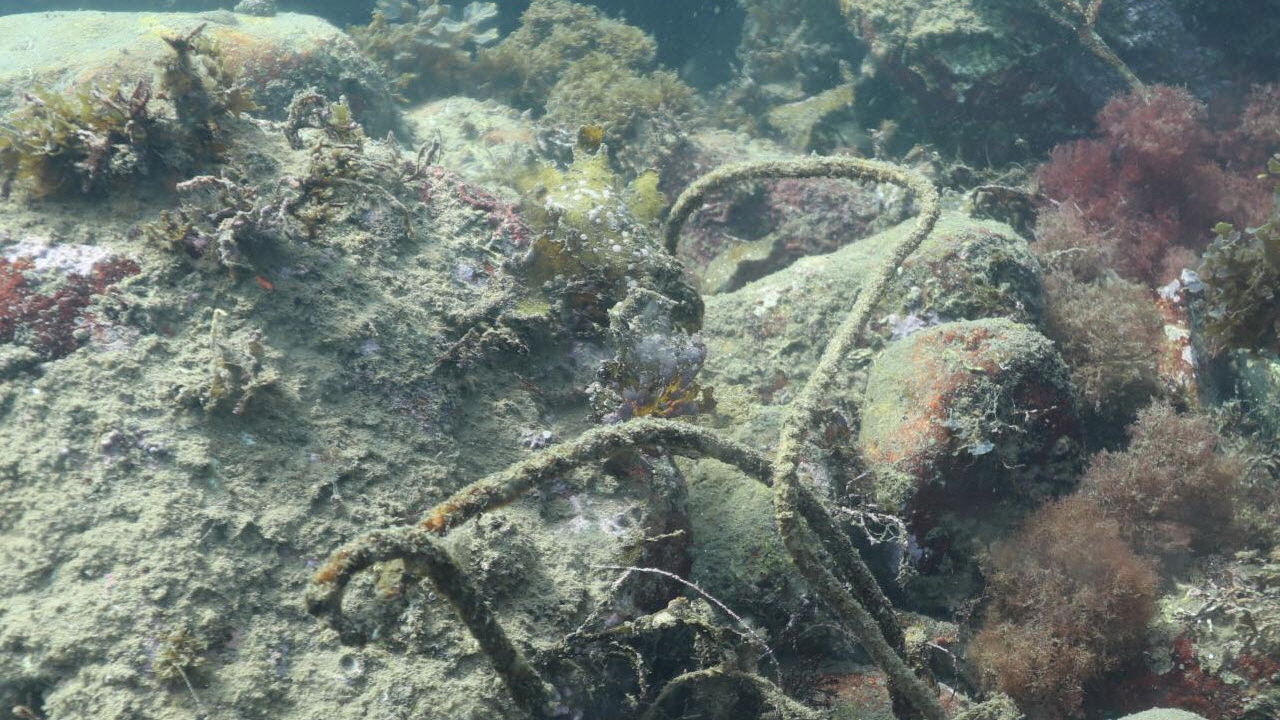bundle of ropes: (298, 147, 945, 720)
